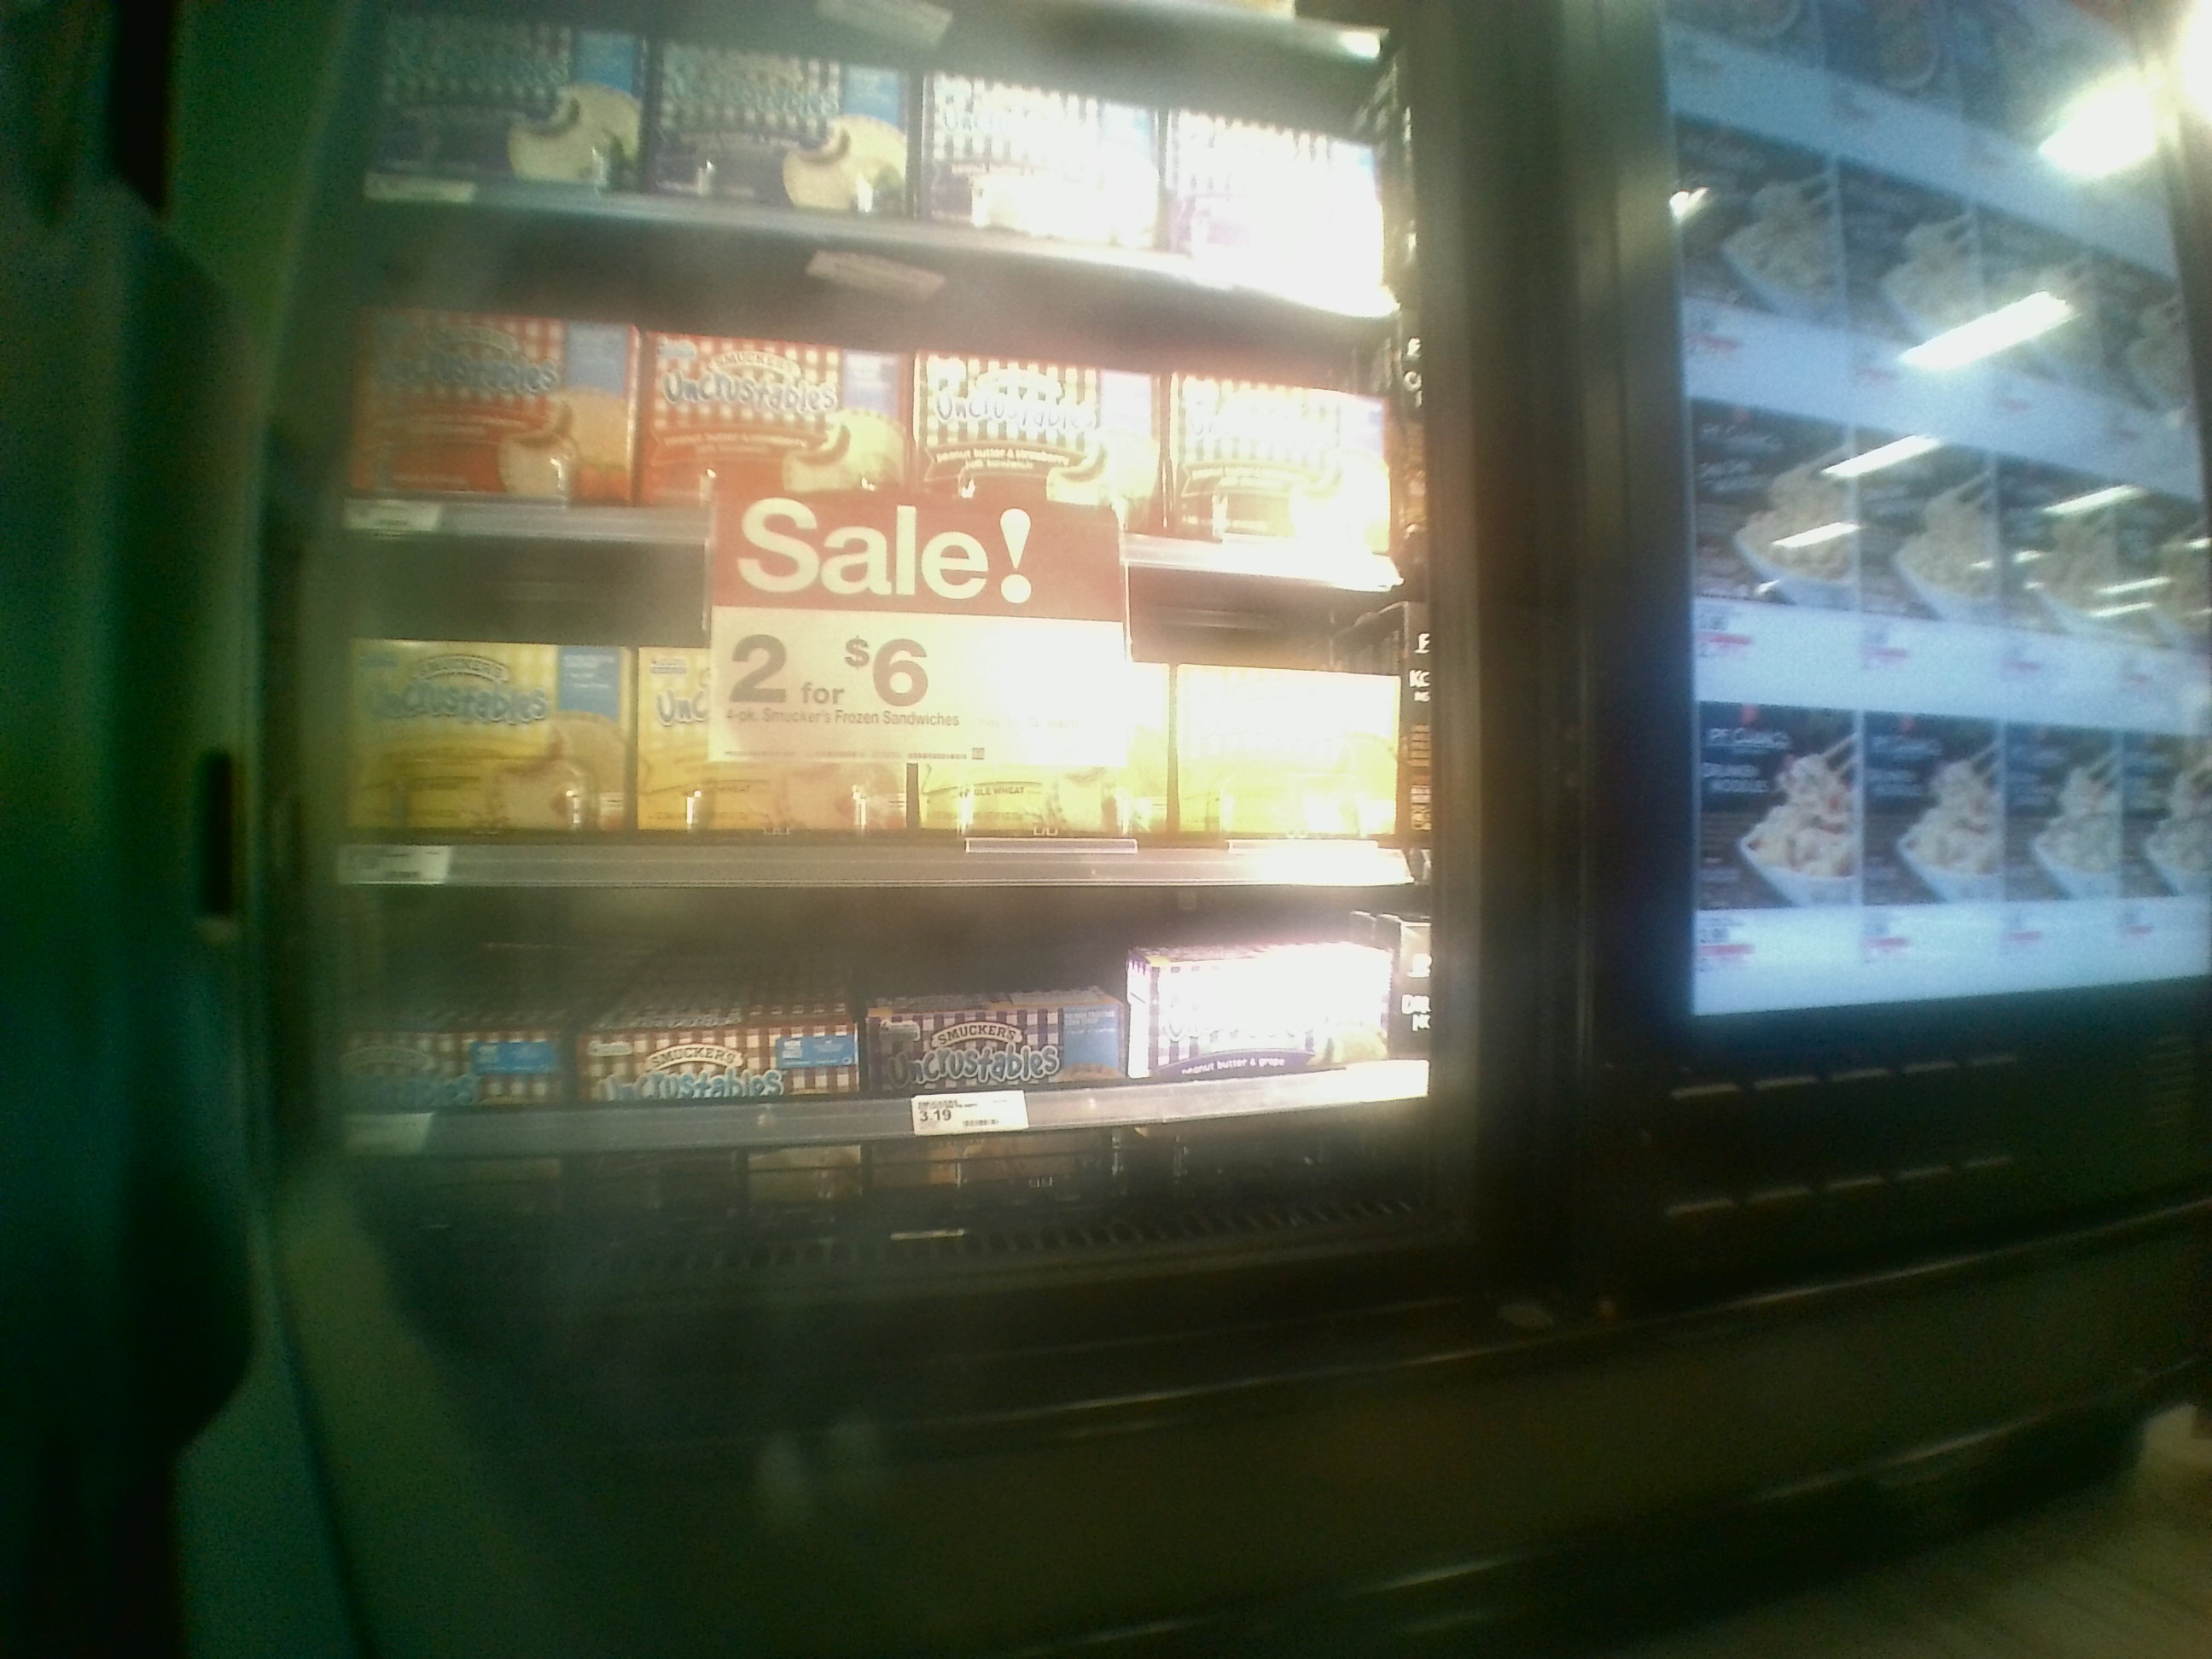shelf: (355, 207, 1428, 587), (322, 915, 1449, 1276), (341, 566, 1433, 901)
